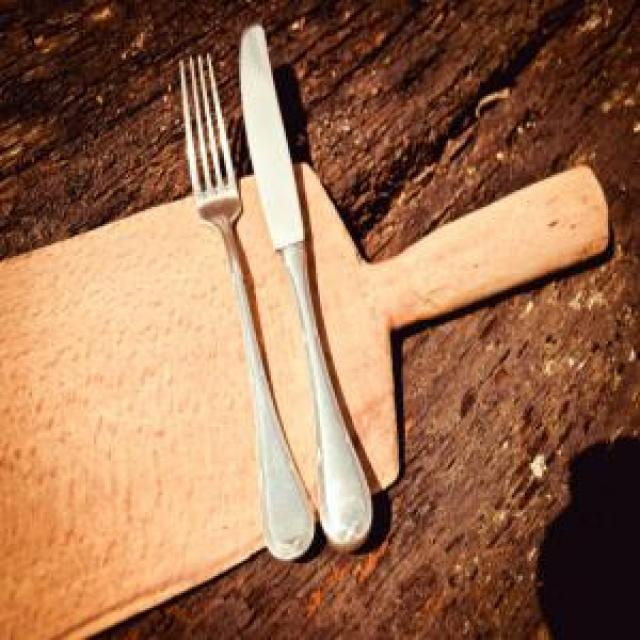knife: (239, 21, 378, 545)
